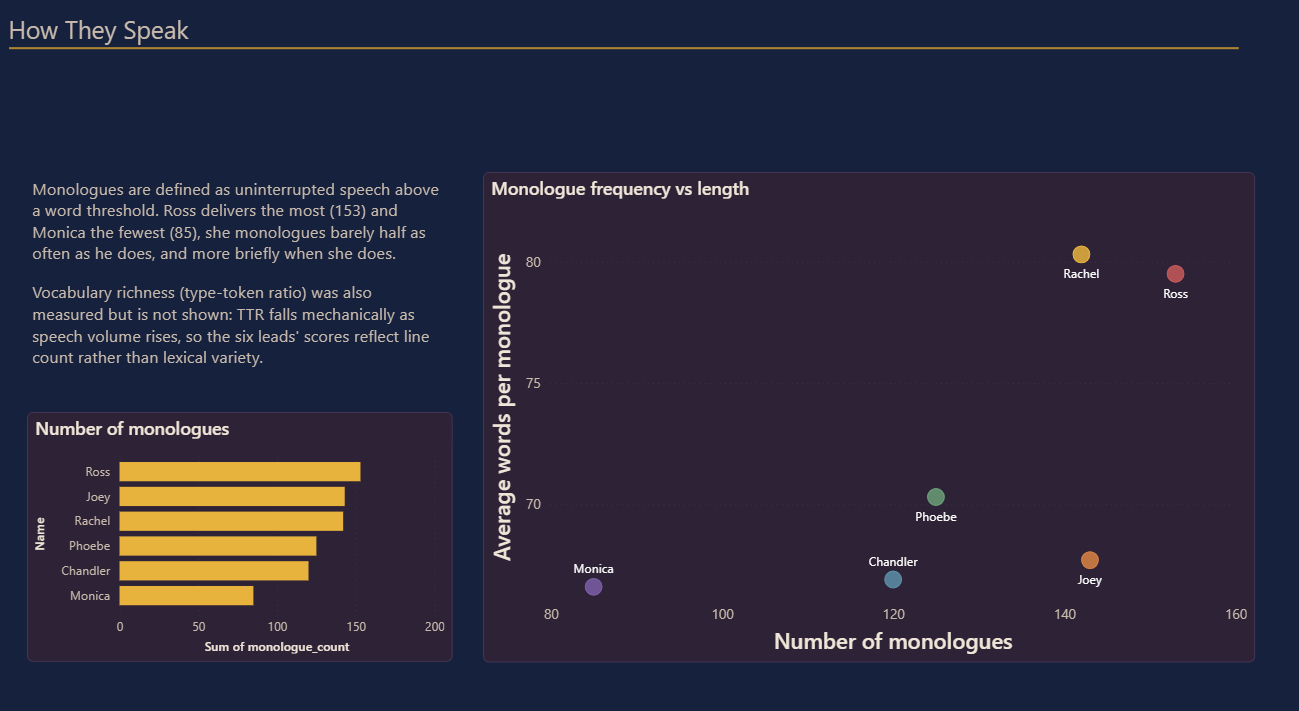

This screenshot's page, from the dashboard's own definition file:
{"tool":"powerbi","page":{"name":"How they Speak","canvas":[1280,720],"ordinal":4},"visuals":[{"type":"textbox","box":[13.6,15.6,241.2,45.7],"z":1000},{"type":"shape","box":[17.5,49.6,1200,12],"z":2000},{"type":"clusteredBarChart","title":"Number of monologues","fields":{"Category":["DimCharacter.Name"],"Y":["Sum(Monologues.monologue_count)"]},"box":[37,409.5,414.3,243.2],"z":2002},{"type":"scatterChart","title":"Monologue frequency vs length","fields":{"Series":["DimCharacter.Name"],"X":["Sum(Monologues.monologue_count)"],"Y":["Sum(Monologues.avg_monologue_words)"]},"box":[480.5,176,750.9,476.6],"z":2003},{"type":"textbox","box":[37,176,414.3,215],"z":2004}]}

Visuals, with their boxes in screenshot pixels (x1, y1, x2, y2), scaled from the page's 1280x720 canvas onto the 1299x711 screenshot:
textbox: <box>14,15,259,61</box>
shape: <box>18,49,1236,61</box>
"Number of monologues" clusteredBarChart: <box>38,404,458,645</box>
"Monologue frequency vs length" scatterChart: <box>488,174,1250,644</box>
textbox: <box>38,174,458,386</box>
